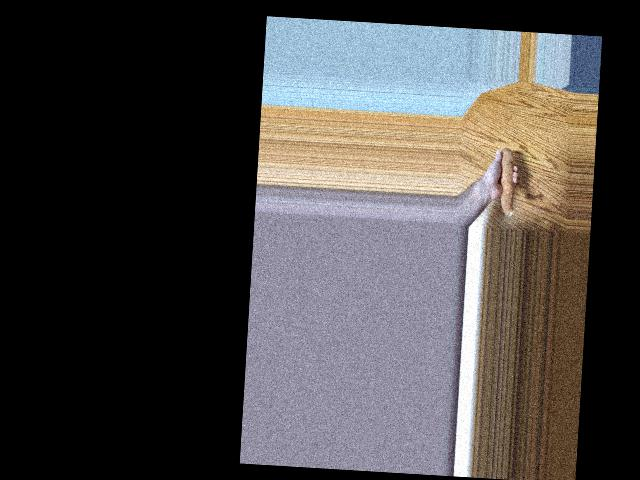sweet_potato: (491, 149, 516, 217)
